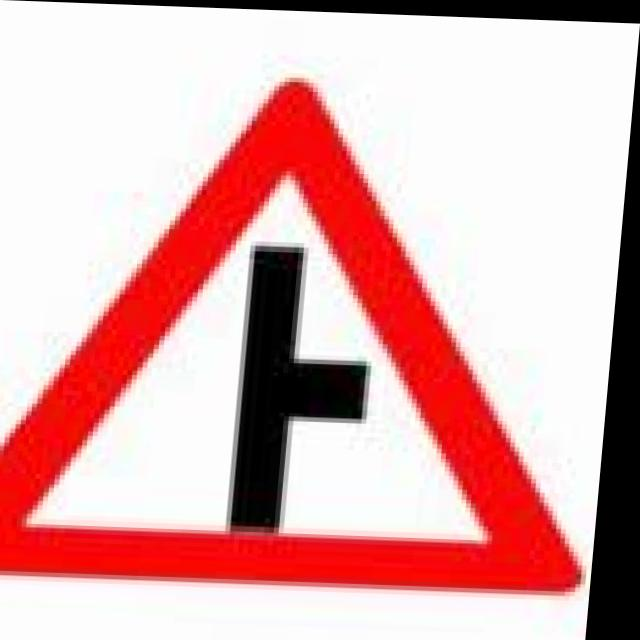SIDE_ROAD_RIGHT: (0, 58, 636, 597)
